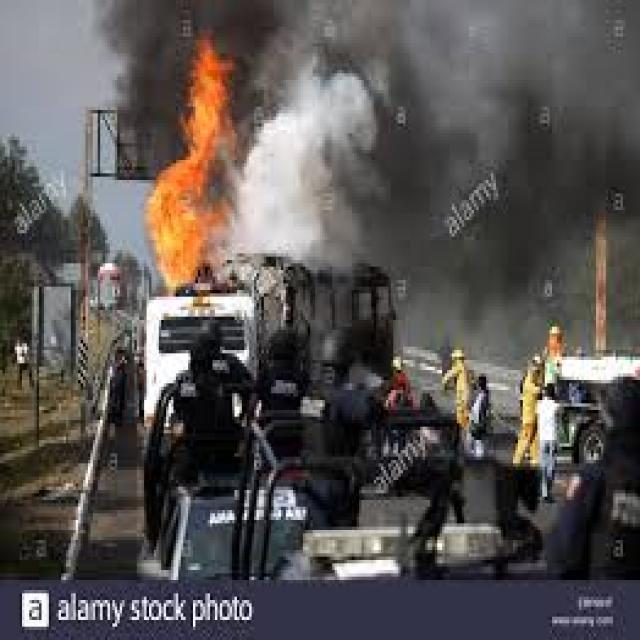Fire: (140, 31, 237, 285)
Smoke: (240, 13, 640, 224)
